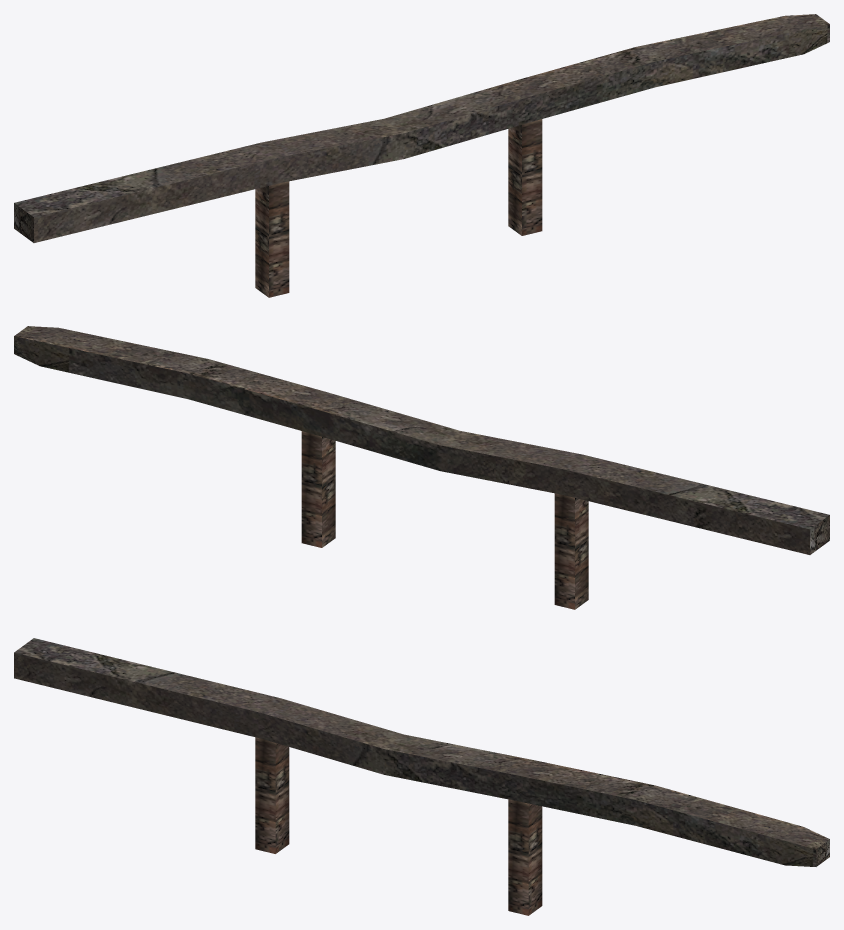
Rendered from Wall.fbx.
The picture shows the model from 3 angles, top to bottom: view 1: azimuth 30°, elevation 25°; view 2: azimuth 150°, elevation 25°; view 3: azimuth 330°, elevation 25°; orthographic projection.
Visible parts, largest first — view 1: LV_Campagna_Stadium_Deco04_SM_JJH; view 2: LV_Campagna_Stadium_Deco04_SM_JJH; view 3: LV_Campagna_Stadium_Deco04_SM_JJH.
Boxes of the visible parts, x1=… form: LV_Campagna_Stadium_Deco04_SM_JJH: x1=14, y1=14, x2=829, y2=297; LV_Campagna_Stadium_Deco04_SM_JJH: x1=14, y1=326, x2=829, y2=609; LV_Campagna_Stadium_Deco04_SM_JJH: x1=14, y1=638, x2=829, y2=915.
Bounding box in the file's own units: 3.28 × 0.5686 × 0.1414.
1 material, 1 textured.
